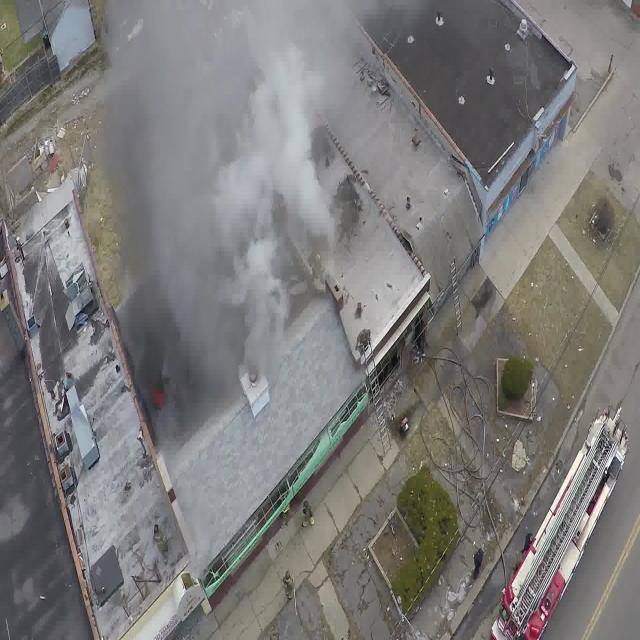Smoke: (100, 0, 378, 393)
